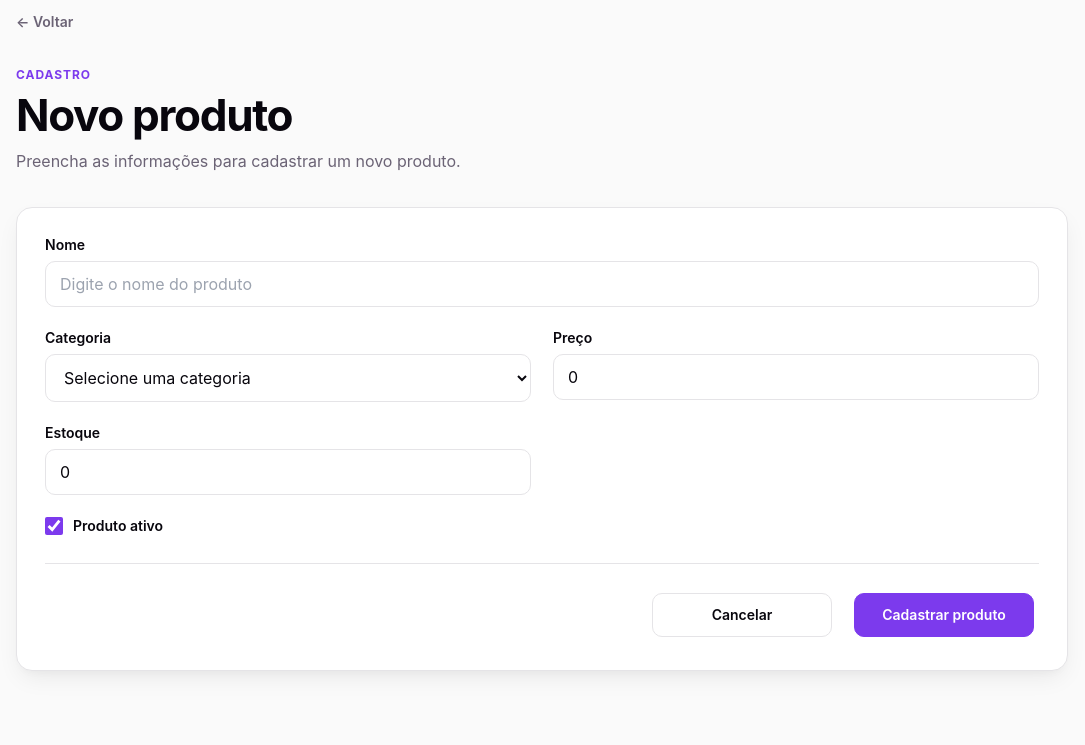
Scenario: ProductFormPage › valida nome com menos de três caracteres
In the field labelled "Nome": (542, 284) [45, 261, 1039, 307], type "AB"
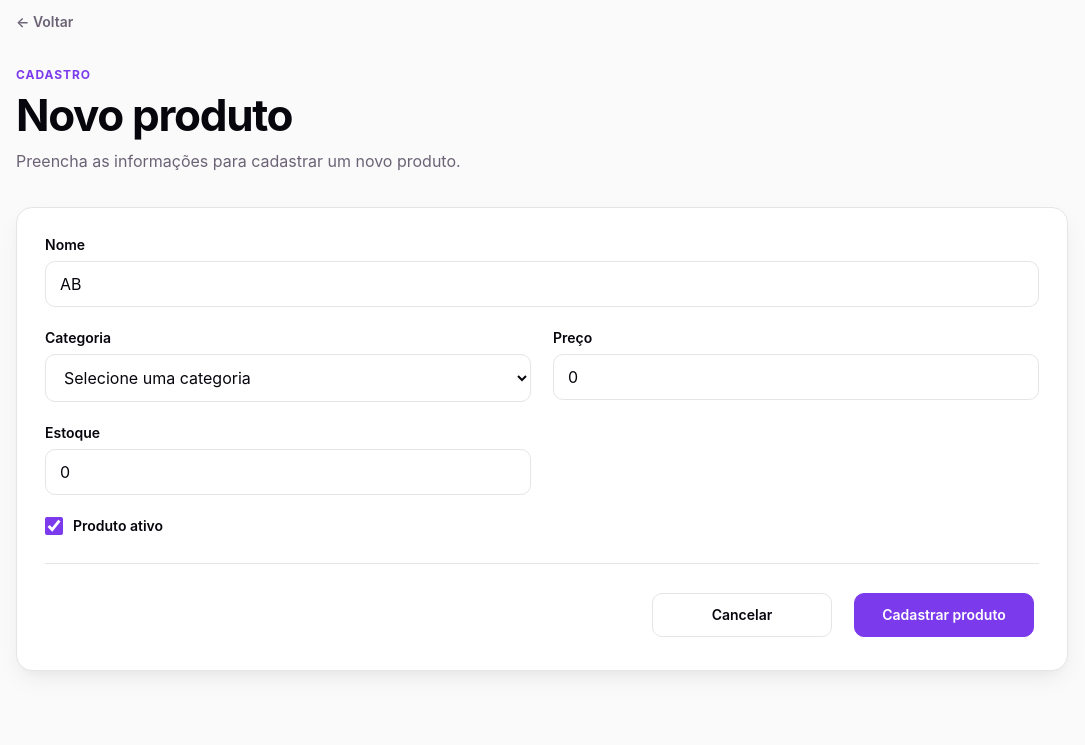
Submit the form
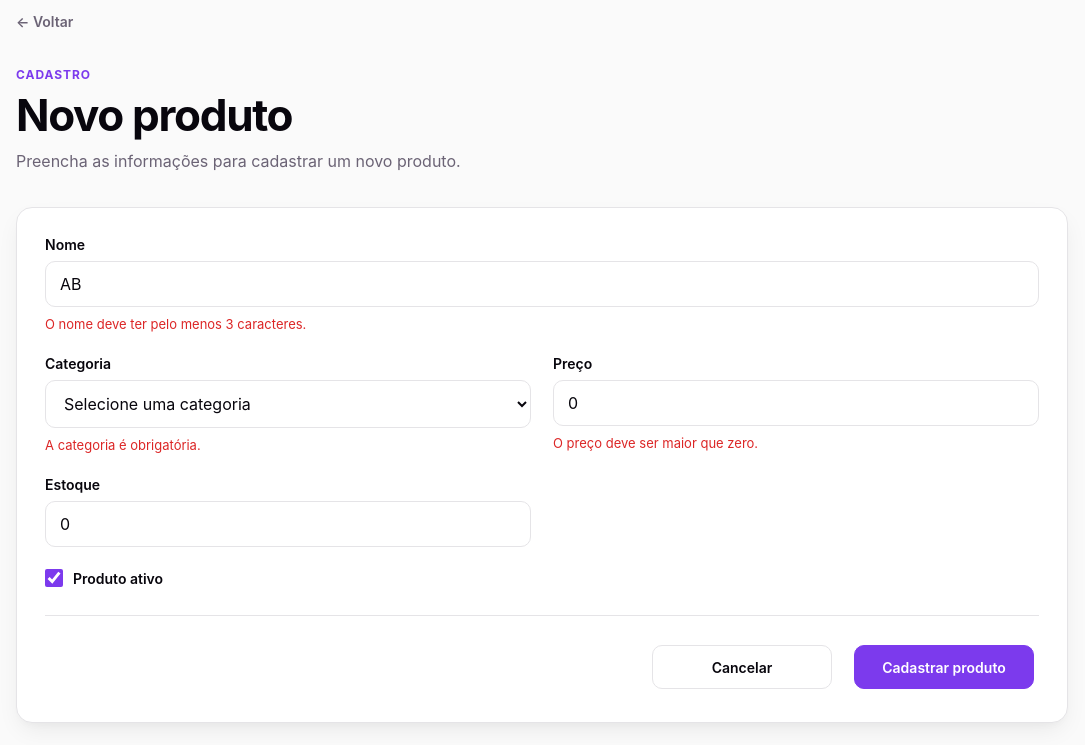
Now the text "O nome deve ter pelo menos 3 caracteres." is shown, box [45, 316, 306, 332]
